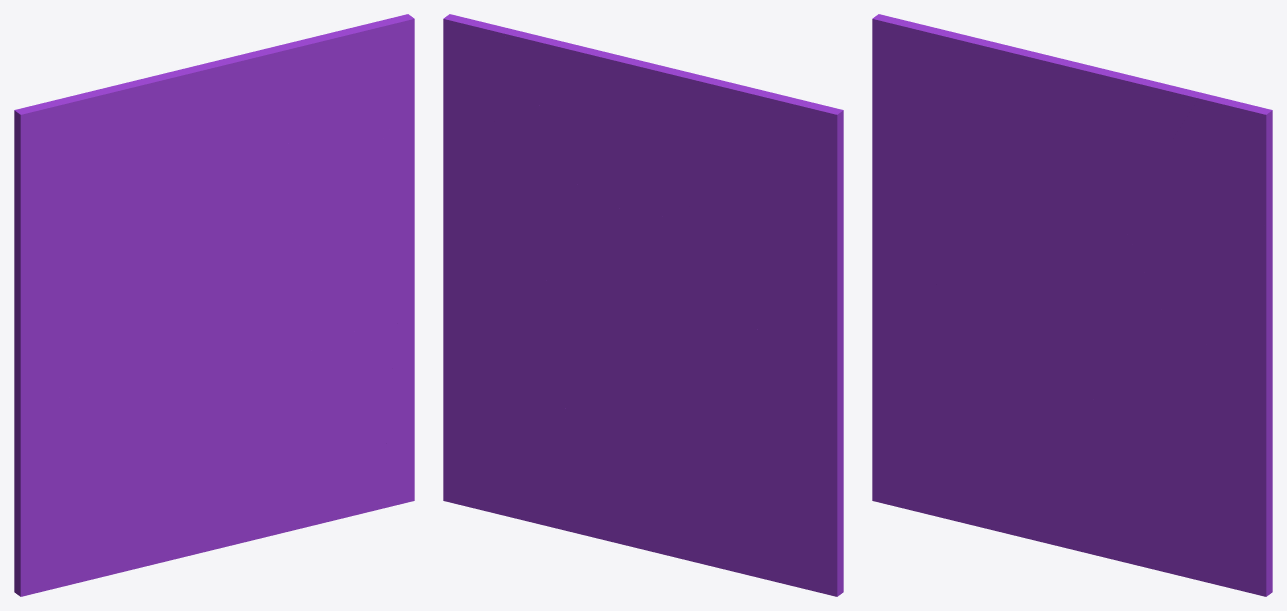
The model's file is Window_53_chunks.fbx.
3 views of the same model, side by side, from view 1: azimuth 30°, elevation 25°; view 2: azimuth 150°, elevation 25°; view 3: azimuth 330°, elevation 25° (orthographic).
Visible parts, largest first — view 1: Window_53_24, Window_53_35, Window_53_38, Window_53_6, Window_53_33, Window_53_22, Window_53_19, Window_53_20, Window_53_39, Window_53_13, Window_53_18, Window_53_27 (+18 smaller); view 2: Window_53_24, Window_53_35, Window_53_38, Window_53_22, Window_53_33, Window_53_6, Window_53_27, Window_53_39, Window_53_20, Window_53_19, Window_53_25, Window_53_34 (+22 smaller); view 3: Window_53_24, Window_53_38, Window_53_6, Window_53_35, Window_53_22, Window_53_19, Window_53_33, Window_53_20, Window_53_39, Window_53_13, Window_53_18, Window_53_16 (+18 smaller).
Boxes of the visible parts, x1,y1,x2,y2 form: Window_53_24: (14,452,176,596); Window_53_35: (14,87,113,270); Window_53_38: (162,29,347,155); Window_53_6: (84,205,264,349); Window_53_33: (14,230,143,369); Window_53_22: (253,402,394,539); Window_53_19: (298,14,414,164); Window_53_20: (172,418,255,559); Window_53_39: (111,74,221,213); Window_53_13: (291,339,399,505); Window_53_18: (328,129,414,280); Window_53_27: (14,362,90,506); Window_53_24: (681,456,843,596); Window_53_35: (741,87,843,273); Window_53_38: (504,30,695,161); Window_53_22: (456,399,606,540); Window_53_33: (712,227,843,369); Window_53_6: (589,206,769,348); Window_53_27: (755,361,843,511); Window_53_39: (626,74,747,211); Window_53_20: (604,421,683,559); Window_53_19: (443,14,550,151); Window_53_25: (673,399,758,529); Window_53_34: (689,87,759,255); Window_53_24: (872,391,1027,537); Window_53_38: (1020,50,1210,179); Window_53_6: (936,190,1115,306); Window_53_35: (872,14,974,173); Window_53_22: (1104,442,1246,591); Window_53_19: (1150,95,1272,229); Window_53_33: (872,170,995,284); Window_53_20: (1024,409,1107,557); Window_53_39: (967,37,1072,206); Window_53_13: (1142,396,1250,592); Window_53_18: (1179,223,1272,345); Window_53_16: (1121,175,1202,326).
Size of the model in its own units: 944 by 1104 by 27.2.
